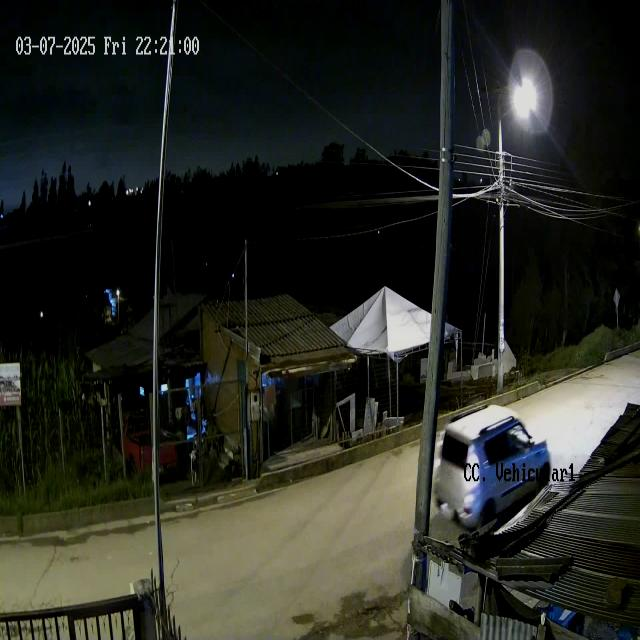SUV: (435, 403, 550, 536)
